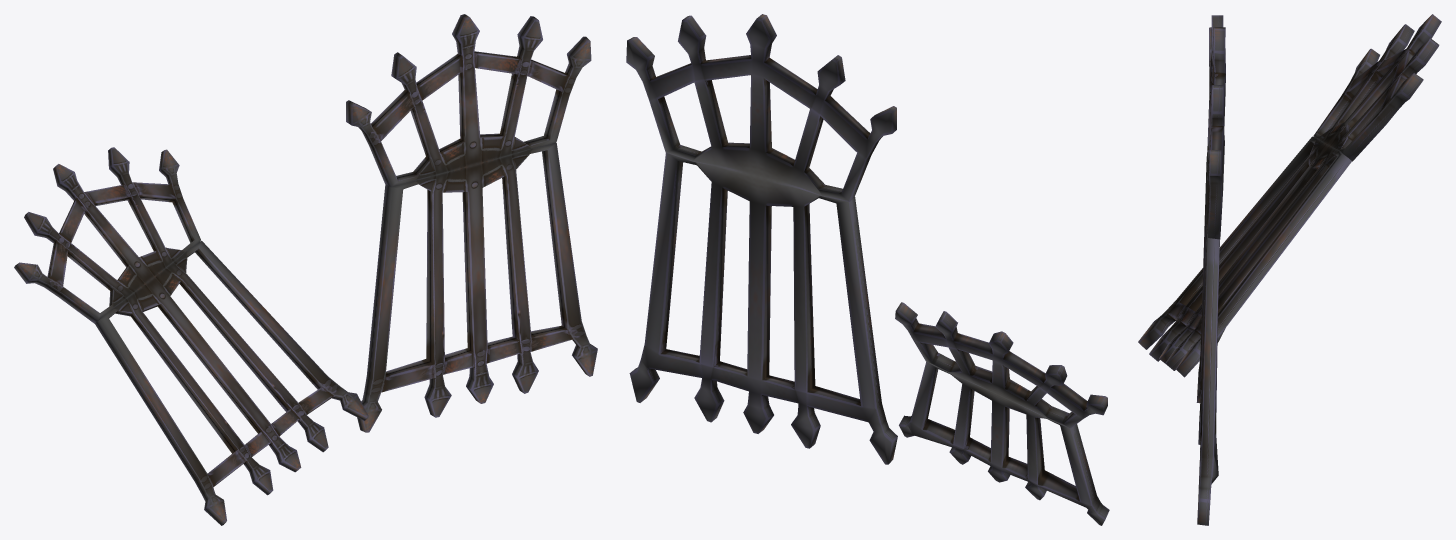
File: doorsBroken.FBX
The picture shows the model from 3 angles, left to right: view 1: azimuth 30°, elevation 25°; view 2: azimuth 150°, elevation 25°; view 3: azimuth 270°, elevation 25°; orthographic projection. The views are drawn at different scales.
Visible parts, largest first — view 1: E01_valla1_metalPuerta; view 2: E01_valla1_metalPuerta; view 3: E01_valla1_metalPuerta.
Part boxes in pixels (box(x1,y1,x2,y2)): E01_valla1_metalPuerta: box(14, 14, 597, 525); E01_valla1_metalPuerta: box(626, 14, 1109, 525); E01_valla1_metalPuerta: box(1138, 14, 1441, 525).
Size of the model in its own units: 460 by 365 by 212.
